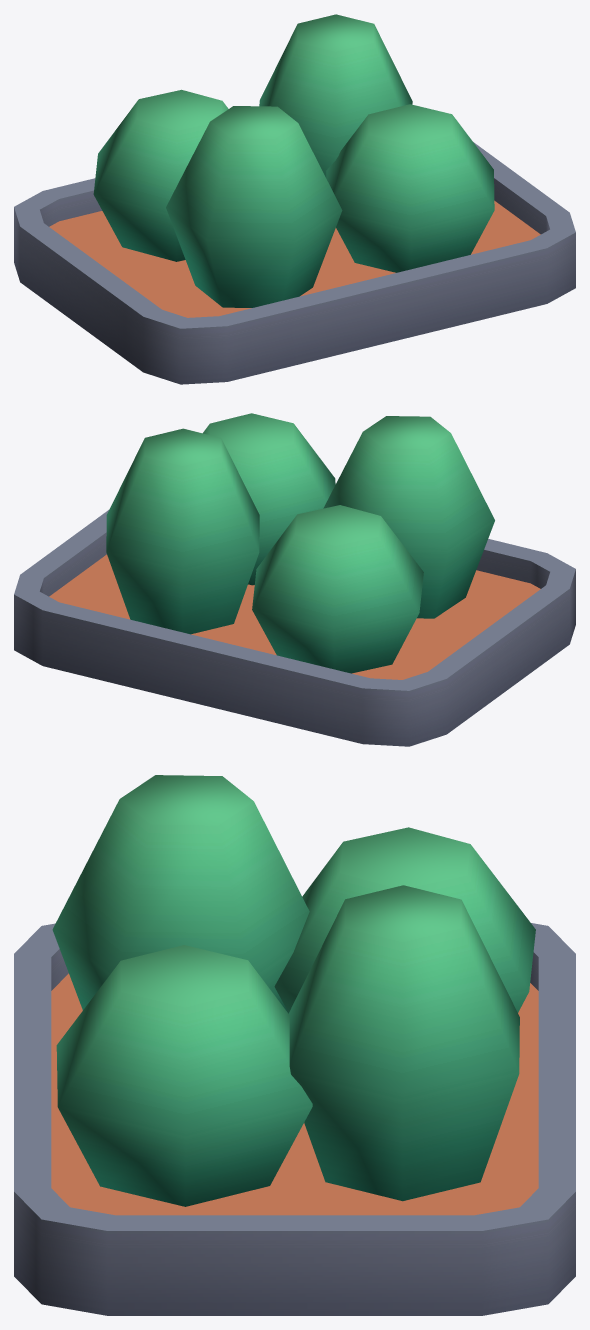
Rendered from planter-kenney.glb.
3 views of the same model, one above another, from view 1: azimuth 30°, elevation 25°; view 2: azimuth 150°, elevation 25°; view 3: azimuth 270°, elevation 25° (orthographic). The views are drawn at different scales.
Visible parts, largest first — view 1: planter; view 2: planter; view 3: planter.
Part boxes in pixels (x1,y1,x2,y2): planter: [14, 14, 575, 384]; planter: [14, 413, 575, 746]; planter: [14, 775, 575, 1315].
Size of the model in its own units: 0.4 by 0.1771 by 0.3.
Materials: 1 (1 with a texture image).
